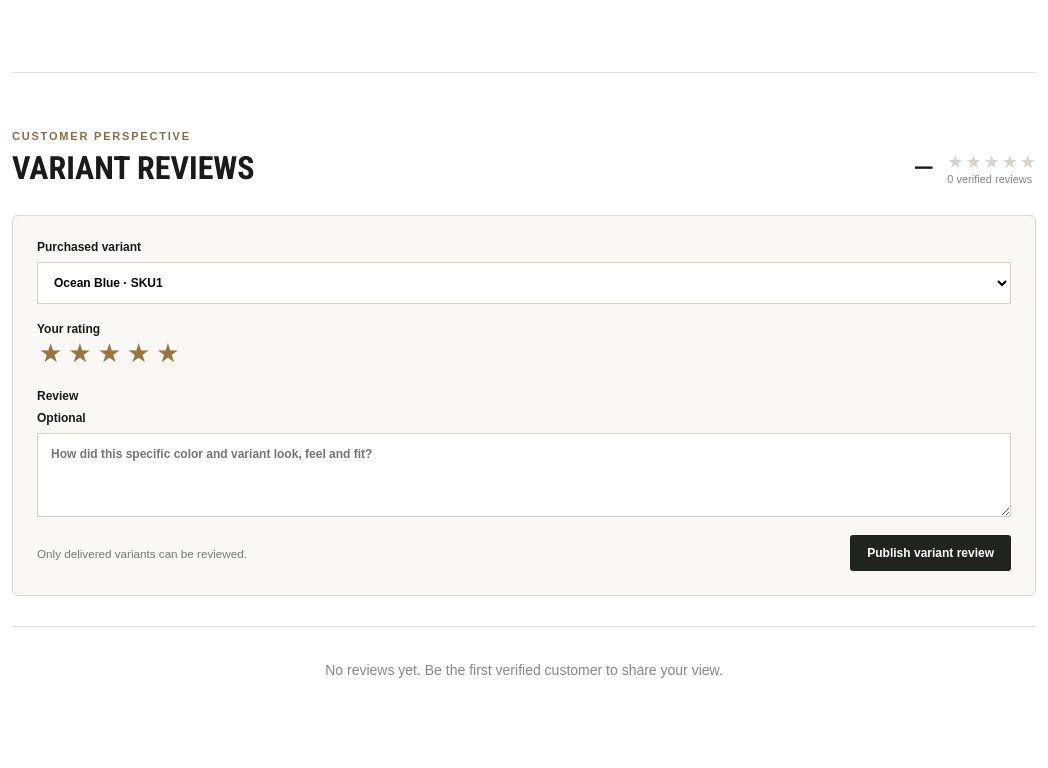
a delivered purchase can be reviewed, and the list refreshes afterwards
Expected: the button "Publish variant review" is shown, [850, 535, 1011, 571]
Click the button named "4 stars" at x=139, y=354, box [125, 336, 152, 371]
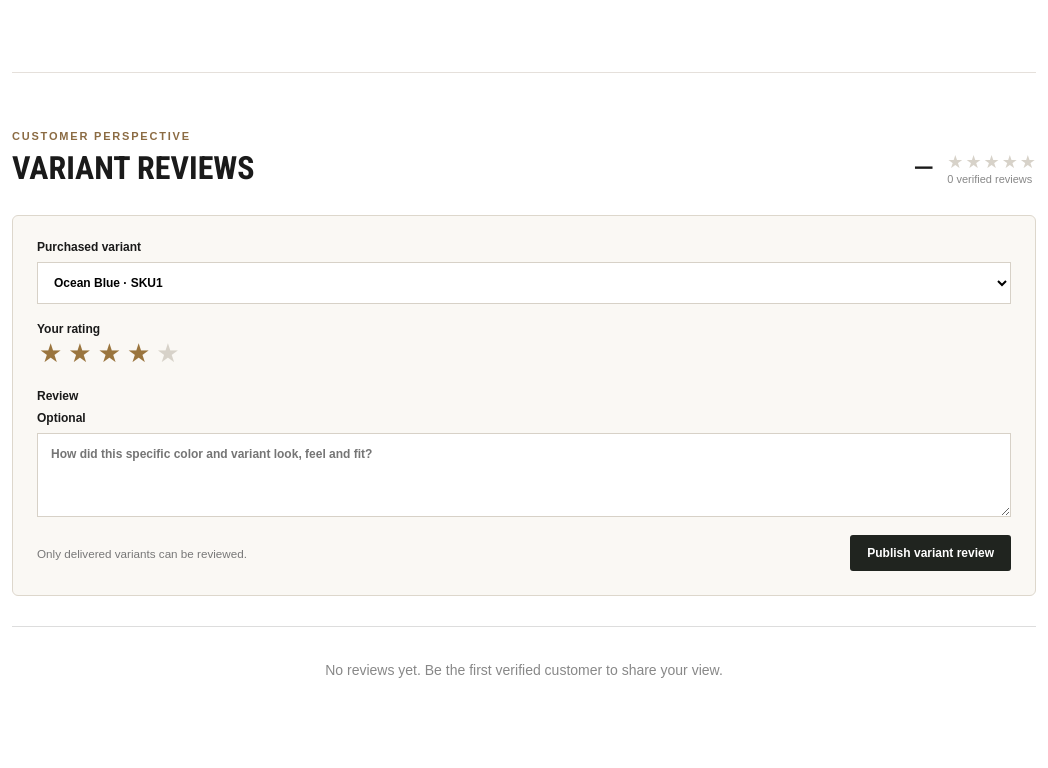
Type "Lovely blue." into the text box at x=524, y=475, box [37, 433, 1011, 517]
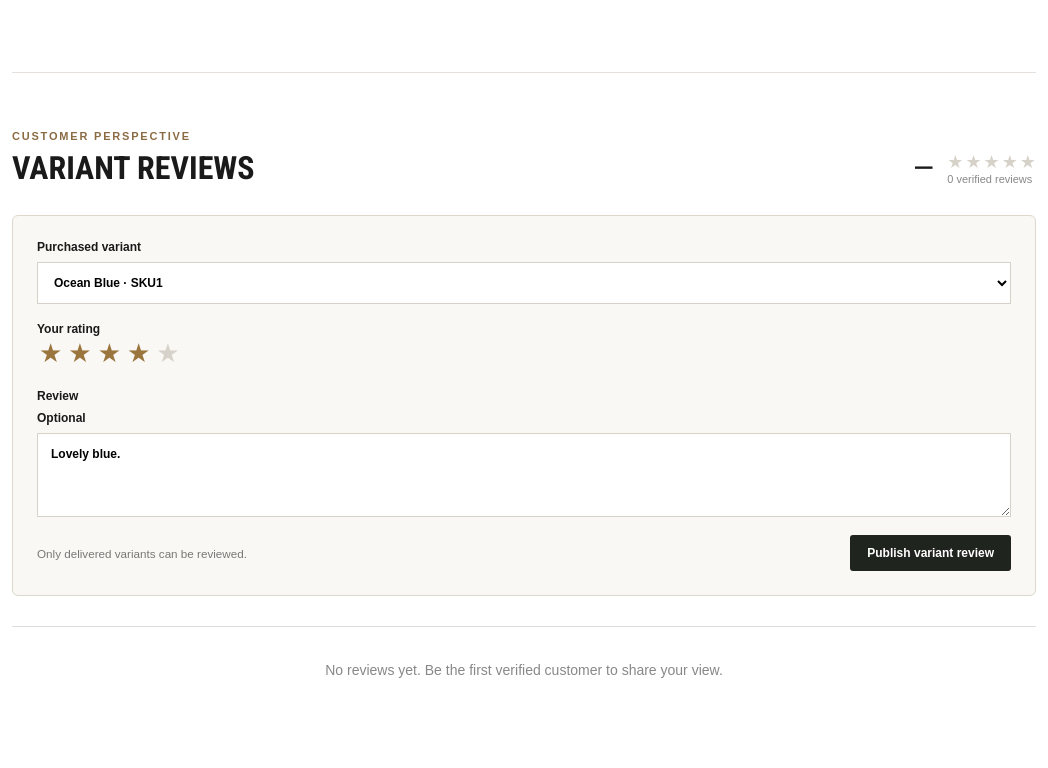
Click the button "Publish variant review" at x=931, y=553, box [850, 535, 1011, 571]
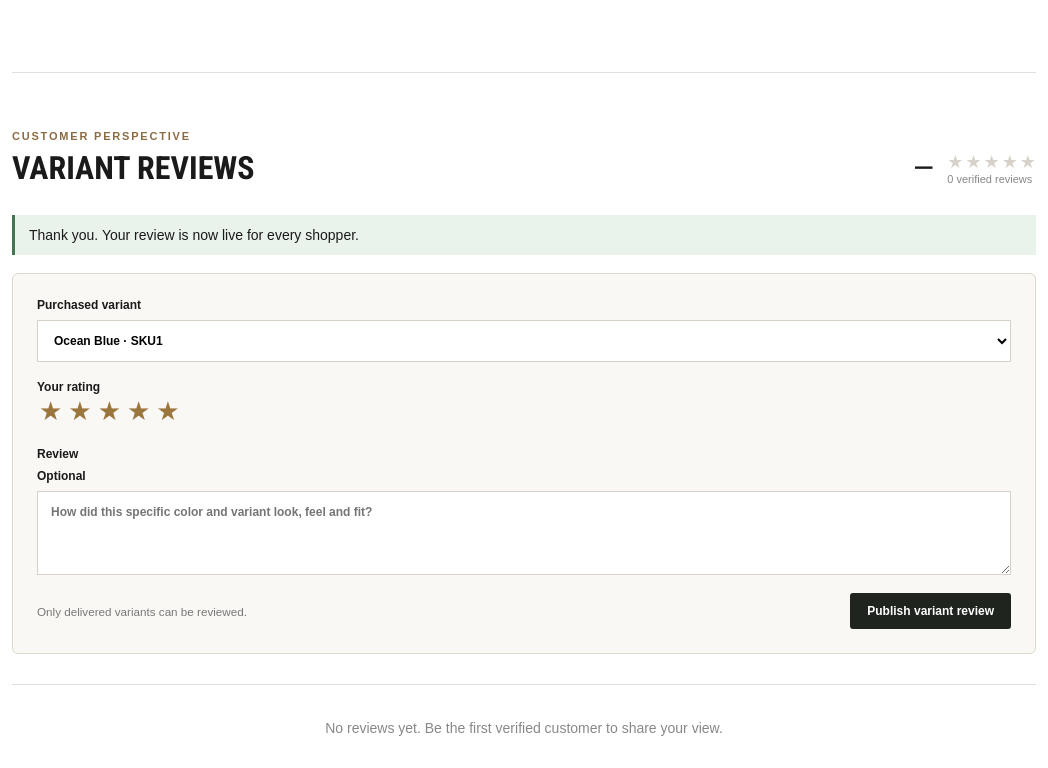
Result: the text "Thank you. Your review is now live for every shopper." is shown at [12, 215, 1036, 255]
